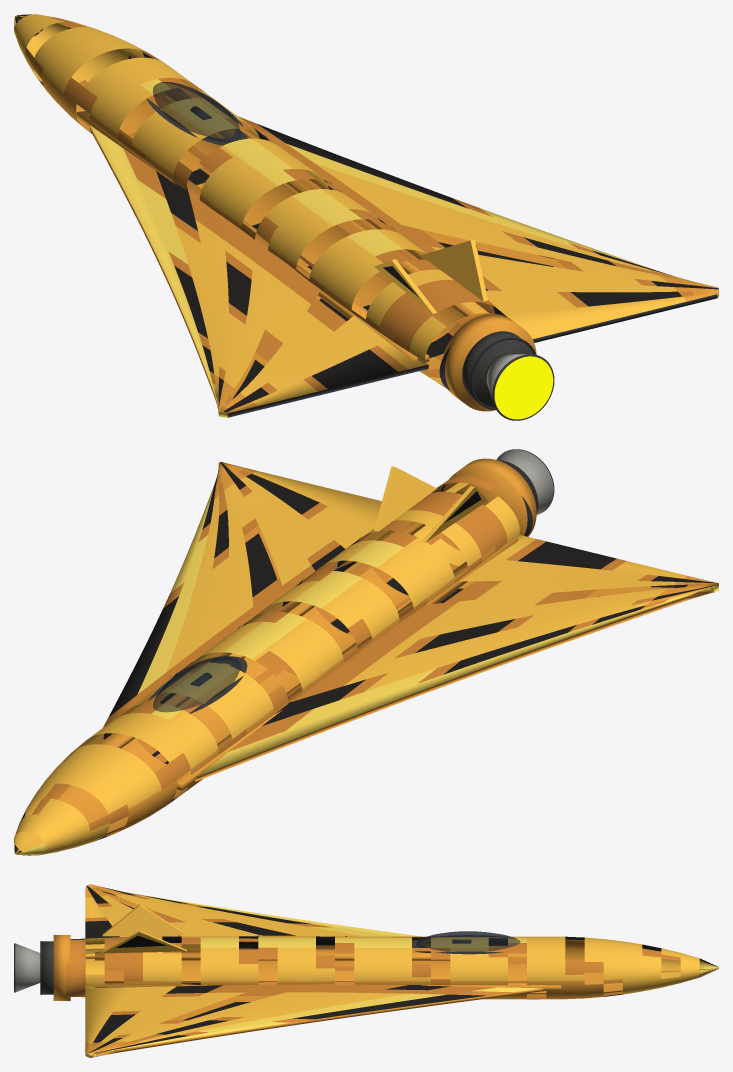
The model's file is Ship_TigerWing_3.glb.
3 views of the same model, one above another, from view 1: azimuth 30°, elevation 25°; view 2: azimuth 150°, elevation 25°; view 3: azimuth 270°, elevation 25° (orthographic). The views are drawn at different scales.
Parts seen in each view (by area): view 1: Fuselage_OrganicEllipsoidTaperedBody_BakedPaint, Wing_Left_LongDeltaAerofoil_BakedPaint, Wing_Right_LongDeltaAerofoil_BakedPaint, CanopyGlass_LowInsetDome, EngineEmitter, AftCollar_IntegratedSingleEngineBand, EngineBlock_AftDarkSingleEngineHousing, TailFin_Right_CantedStabilizer, WingRoot_Left_EmbeddedShoulder, WingRoot_Right_EmbeddedShoulder, CanopyFrame_DorsalOvalRim, TailFin_Left_CantedStabilizer; view 2: Fuselage_OrganicEllipsoidTaperedBody_BakedPaint, Wing_Left_LongDeltaAerofoil_BakedPaint, Wing_Right_LongDeltaAerofoil_BakedPaint, CanopyGlass_LowInsetDome, AftCollar_IntegratedSingleEngineBand, TailFin_Right_CantedStabilizer, WingRoot_Left_EmbeddedShoulder, EngineBell_Center_BroadBurnishedNozzle, WingRoot_Right_EmbeddedShoulder, TailFin_Left_CantedStabilizer, CanopyFrame_DorsalOvalRim; view 3: Fuselage_OrganicEllipsoidTaperedBody_BakedPaint, Wing_Right_LongDeltaAerofoil_BakedPaint, Wing_Left_LongDeltaAerofoil_BakedPaint, CanopyGlass_LowInsetDome, TailFin_Left_CantedStabilizer, AftCollar_IntegratedSingleEngineBand, EngineBell_Center_BroadBurnishedNozzle, WingRoot_Right_EmbeddedShoulder, TailFin_Right_CantedStabilizer, WingRoot_Left_EmbeddedShoulder, EngineBlock_AftDarkSingleEngineHousing, CanopyFrame_DorsalOvalRim (+1 smaller).
Boxes of the visible parts, x1,y1,x2,y2 form: Fuselage_OrganicEllipsoidTaperedBody_BakedPaint: (14,14,506,391); Wing_Left_LongDeltaAerofoil_BakedPaint: (90,125,428,417); Wing_Right_LongDeltaAerofoil_BakedPaint: (238,116,718,342); CanopyGlass_LowInsetDome: (153,82,240,142); EngineEmitter: (494,356,553,419); AftCollar_IntegratedSingleEngineBand: (443,313,536,411); EngineBlock_AftDarkSingleEngineHousing: (462,331,533,407); TailFin_Right_CantedStabilizer: (421,239,487,301); WingRoot_Left_EmbeddedShoulder: (77,111,429,362); WingRoot_Right_EmbeddedShoulder: (166,89,489,316); CanopyFrame_DorsalOvalRim: (146,88,247,145); TailFin_Left_CantedStabilizer: (374,259,436,313); Fuselage_OrganicEllipsoidTaperedBody_BakedPaint: (14,475,532,855); Wing_Left_LongDeltaAerofoil_BakedPaint: (195,535,718,781); Wing_Right_LongDeltaAerofoil_BakedPaint: (103,462,381,727); CanopyGlass_LowInsetDome: (153,656,240,712); AftCollar_IntegratedSingleEngineBand: (443,458,536,536); TailFin_Right_CantedStabilizer: (374,466,436,531); WingRoot_Left_EmbeddedShoulder: (177,537,518,790); EngineBell_Center_BroadBurnishedNozzle: (497,449,553,514); WingRoot_Right_EmbeddedShoulder: (98,521,425,748); TailFin_Left_CantedStabilizer: (421,486,487,542); CanopyFrame_DorsalOvalRim: (148,656,247,713); Fuselage_OrganicEllipsoidTaperedBody_BakedPaint: (66,936,718,999); Wing_Right_LongDeltaAerofoil_BakedPaint: (85,982,543,1057); Wing_Left_LongDeltaAerofoil_BakedPaint: (85,884,565,958); CanopyGlass_LowInsetDome: (416,931,520,952); TailFin_Left_CantedStabilizer: (102,904,186,936); AftCollar_IntegratedSingleEngineBand: (53,935,70,1000); EngineBell_Center_BroadBurnishedNozzle: (15,943,40,992); WingRoot_Right_EmbeddedShoulder: (95,981,561,990); TailFin_Right_CantedStabilizer: (102,931,186,953); WingRoot_Left_EmbeddedShoulder: (95,950,526,960); EngineBlock_AftDarkSingleEngineHousing: (41,941,53,994); CanopyFrame_DorsalOvalRim: (412,935,507,954).
Bounding box in the file's own units: 4.84 × 1.07 × 8.54.
